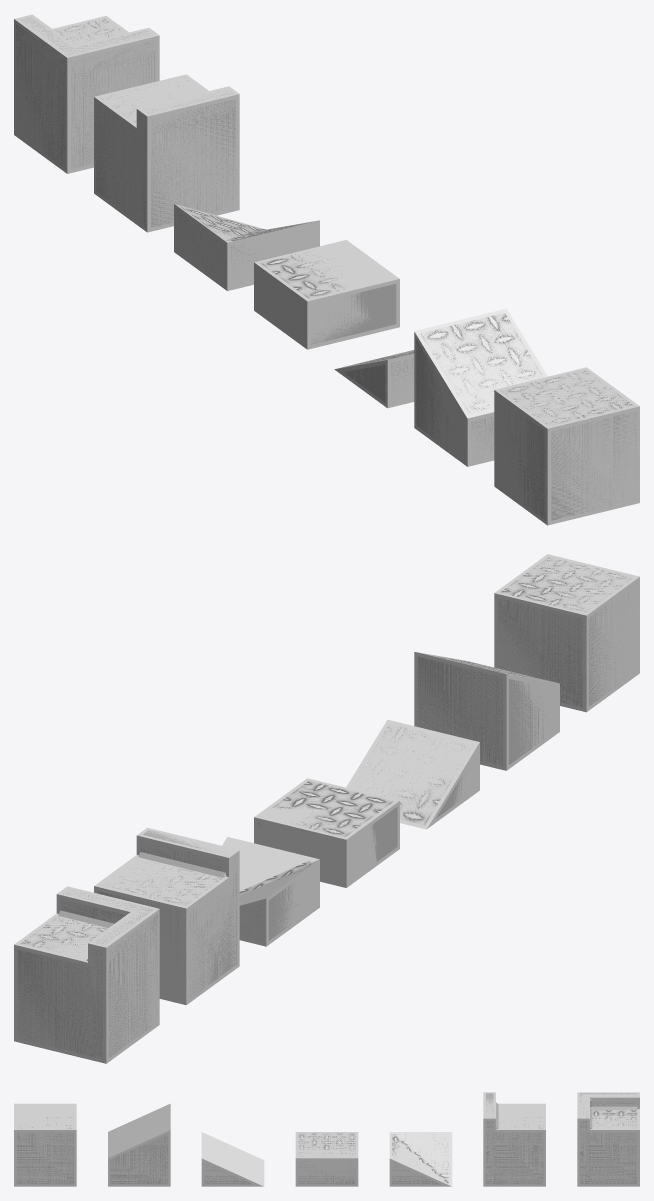
The model's file is blocks.glb.
The picture shows the model from 3 angles, top to bottom: view 1: azimuth 30°, elevation 25°; view 2: azimuth 150°, elevation 25°; view 3: azimuth 270°, elevation 25°; orthographic projection. The views are drawn at different scales.
Visible parts, largest first — view 1: 6.Edges.colonly, 1.Block.colonly, 7.Edges-corner.colonly, 2.Ramp-top.colonly.001, 4.Half.colonly, 1.Block, 2.Ramp-top, 7.Edges-corner, 5.Ramp-corner.colonly, 6.Edges, 4.Half, 3.Ramp-bottom.colonly (+2 smaller); view 2: 7.Edges-corner.colonly, 1.Block.colonly, 6.Edges.colonly, 7.Edges-corner, 1.Block, 2.Ramp-top.colonly.001, 3.Ramp-bottom.colonly, 2.Ramp-top, 4.Half.colonly, 5.Ramp-corner.colonly, 6.Edges, 4.Half (+2 smaller); view 3: 7.Edges-corner.colonly, 6.Edges.colonly, 1.Block.colonly, 2.Ramp-top.colonly.001, 4.Half.colonly, 7.Edges-corner, 5.Ramp-corner.colonly, 3.Ramp-bottom.colonly, 6.Edges, 1.Block, 2.Ramp-top, 4.Half (+2 smaller).
Part boxes in pixels (x1,y1,x2,y2): 6.Edges.colonly: (94, 74, 239, 232); 1.Block.colonly: (494, 367, 639, 525); 7.Edges-corner.colonly: (14, 14, 159, 173); 2.Ramp-top.colonly.001: (414, 308, 547, 466); 4.Half.colonly: (254, 240, 399, 349); 1.Block: (498, 370, 636, 520); 2.Ramp-top: (416, 313, 543, 453); 7.Edges-corner: (16, 17, 155, 167); 5.Ramp-corner.colonly: (174, 204, 319, 290); 6.Edges: (96, 77, 235, 227); 4.Half: (260, 252, 396, 344); 3.Ramp-bottom.colonly: (334, 350, 414, 408); 7.Edges-corner.colonly: (14, 886, 159, 1063); 1.Block.colonly: (494, 554, 639, 712); 6.Edges.colonly: (94, 827, 239, 1005); 7.Edges-corner: (17, 889, 157, 1058); 1.Block: (498, 557, 633, 707); 2.Ramp-top.colonly.001: (414, 652, 559, 770); 3.Ramp-bottom.colonly: (346, 719, 479, 829); 2.Ramp-top: (418, 656, 557, 765); 4.Half.colonly: (254, 778, 399, 887); 5.Ramp-corner.colonly: (222, 837, 319, 946); 6.Edges: (97, 830, 237, 998); 4.Half: (258, 780, 397, 862); 7.Edges-corner.colonly: (577, 1092, 639, 1186); 6.Edges.colonly: (483, 1092, 545, 1186); 1.Block.colonly: (14, 1103, 76, 1186); 2.Ramp-top.colonly.001: (108, 1103, 170, 1186); 4.Half.colonly: (295, 1132, 358, 1186); 7.Edges-corner: (580, 1093, 638, 1184); 5.Ramp-corner.colonly: (389, 1132, 452, 1186); 3.Ramp-bottom.colonly: (201, 1132, 264, 1186); 6.Edges: (486, 1093, 543, 1184); 1.Block: (16, 1112, 73, 1184); 2.Ramp-top: (110, 1131, 167, 1184); 4.Half: (298, 1133, 355, 1184).
Size of the model in its own units: 2 by 2.4 by 20.
2 materials, 1 textured.
